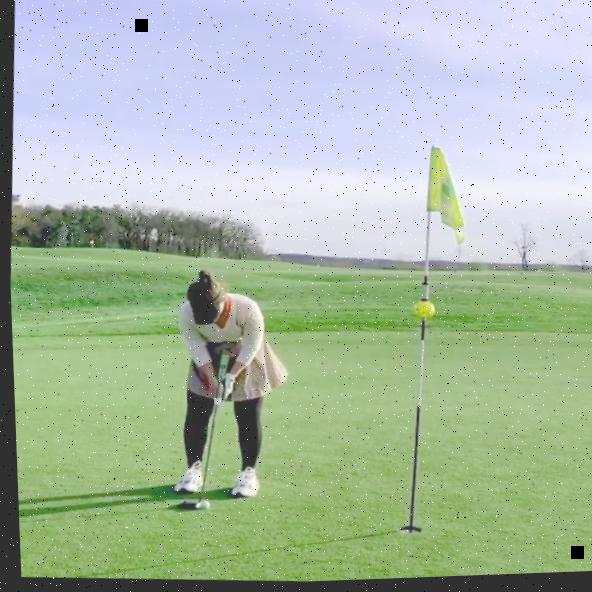ClubHead: (191, 504, 198, 510)
GolfBall: (198, 502, 207, 510)
